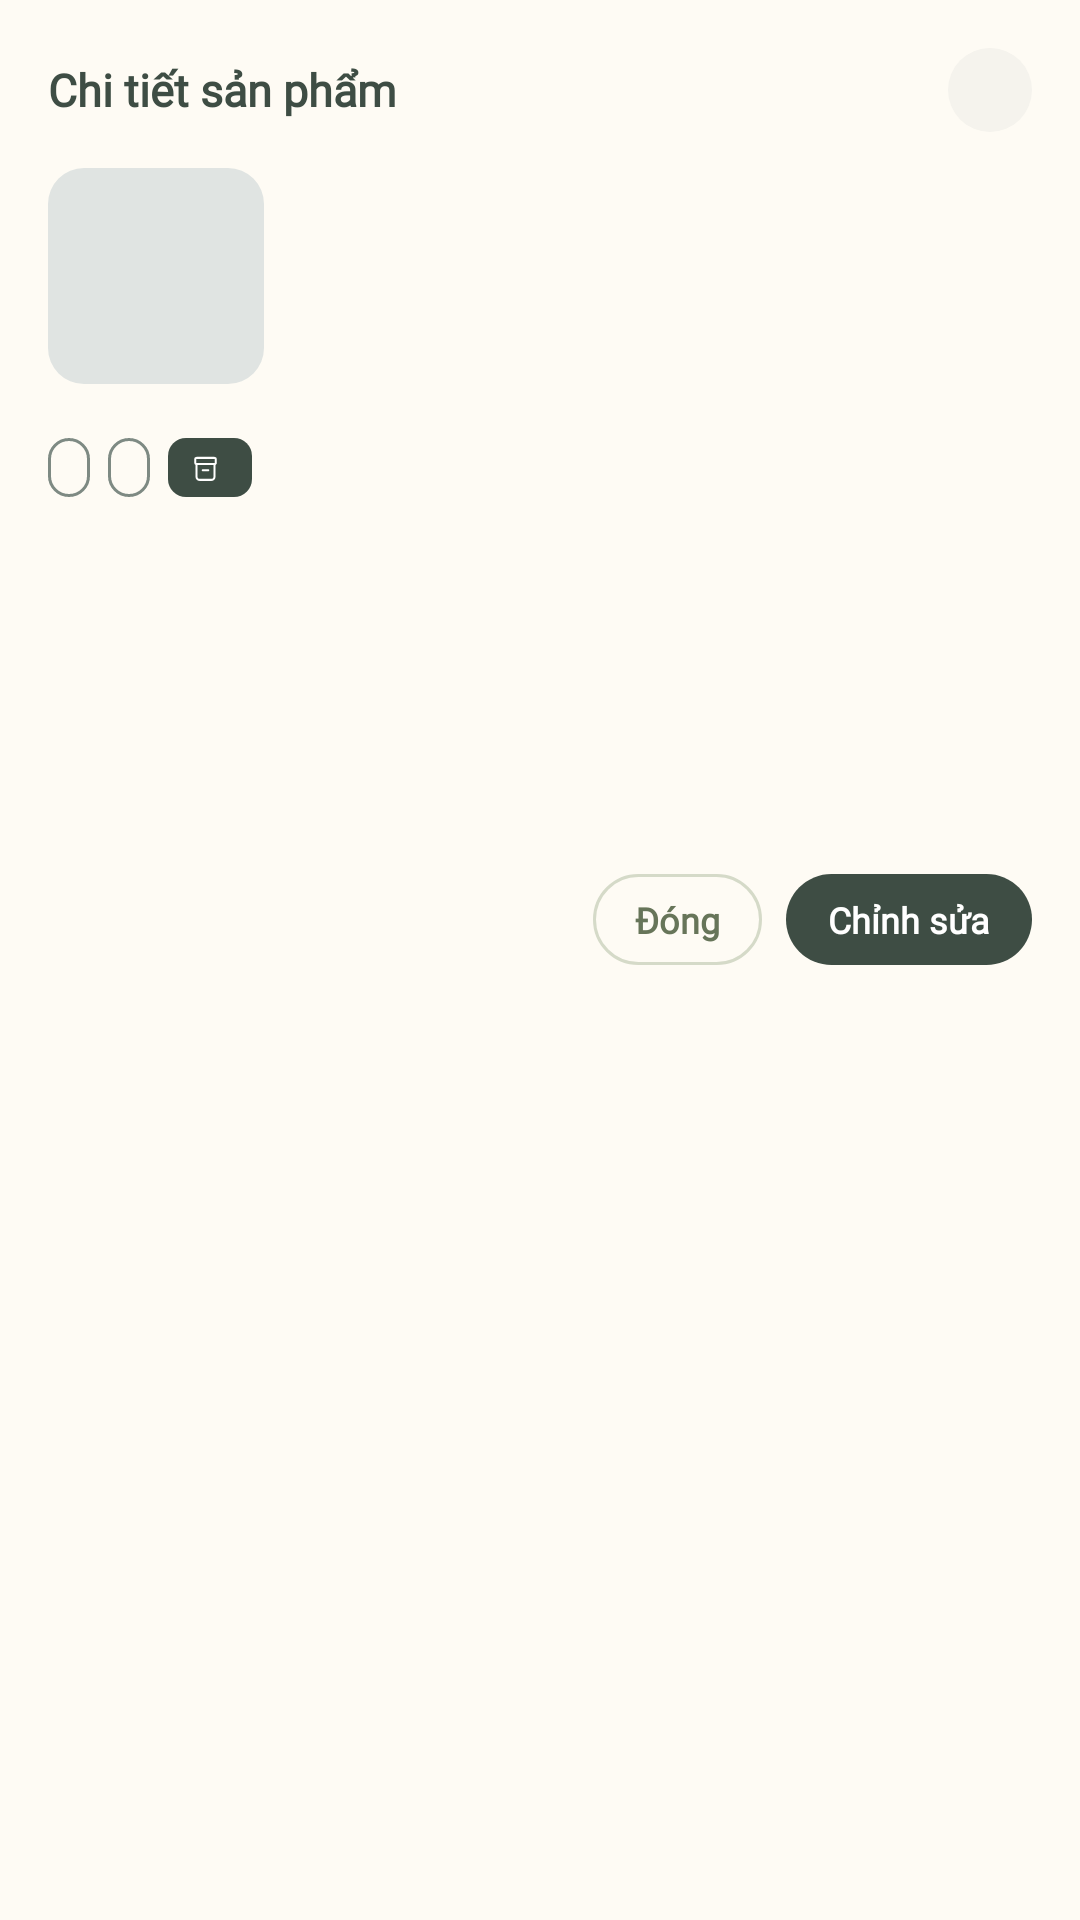

Icons on this 1080×1920 Android screen, each with its box as rect(x1, y1, x2, y2):
Kho: rect(194, 456, 217, 481)
